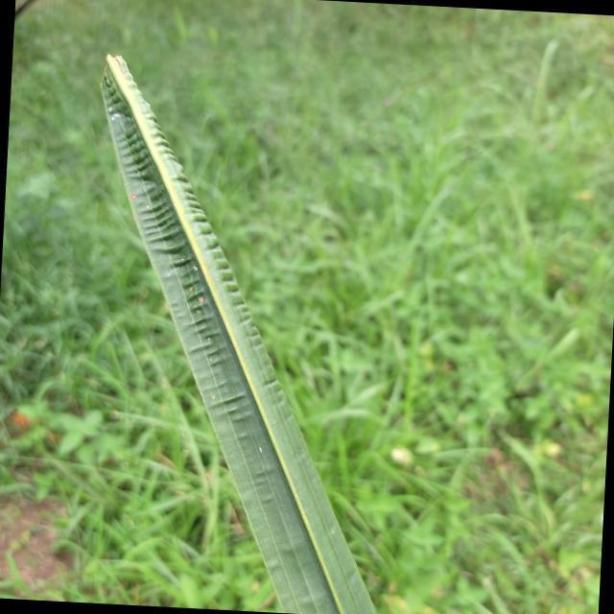Boron: (96, 40, 376, 614)
